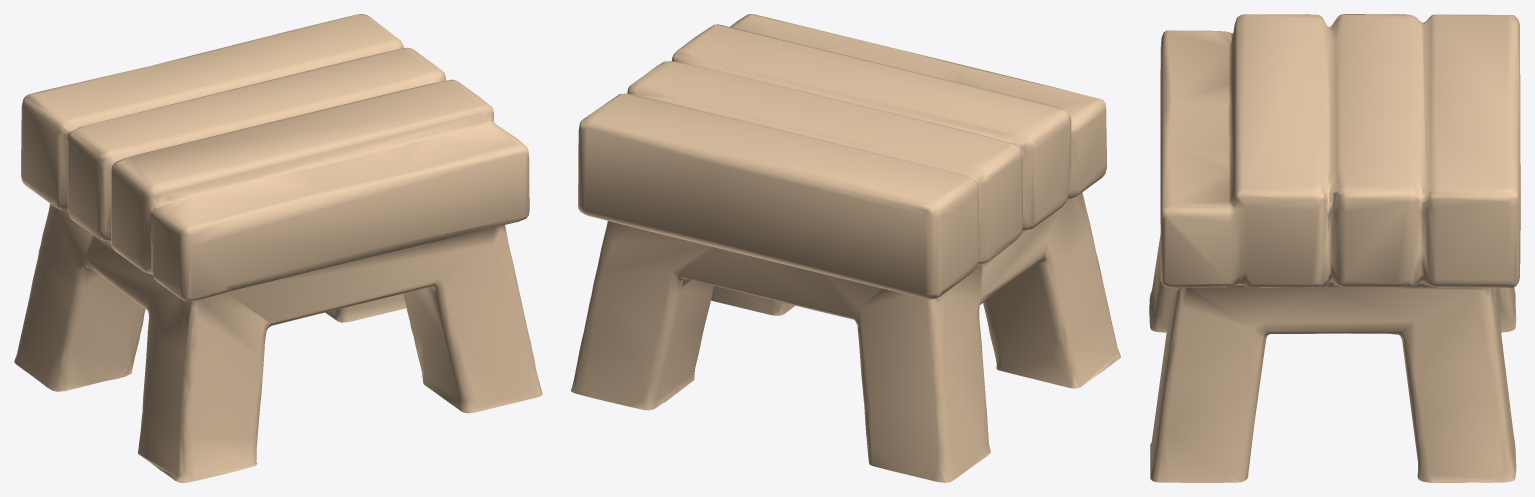
The model's file is show_spa_stool.glb.
The picture shows the model from 3 angles, left to right: view 1: azimuth 30°, elevation 25°; view 2: azimuth 150°, elevation 25°; view 3: azimuth 270°, elevation 25°; orthographic projection. The views are drawn at different scales.
Size of the model in its own units: 0.8 by 0.55 by 0.65.
